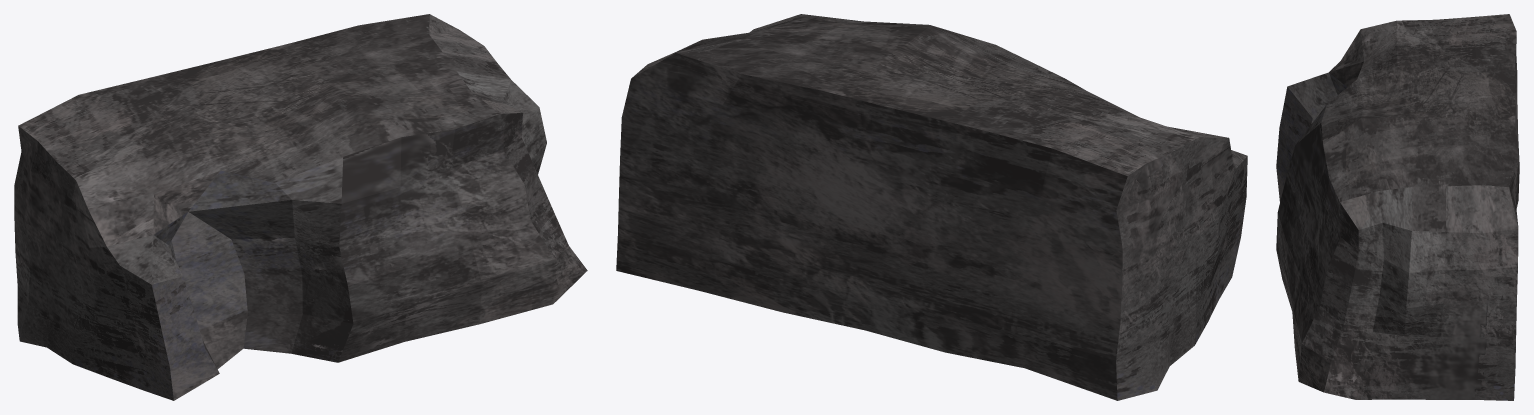
The model's file is lower poly rocks rock wall.fbx.
3 views of the same model, side by side, from view 1: azimuth 30°, elevation 25°; view 2: azimuth 150°, elevation 25°; view 3: azimuth 270°, elevation 25° (orthographic). The views are drawn at different scales.
Parts seen in each view (by area): view 1: rock wall; view 2: rock wall; view 3: rock wall.
Boxes of the visible parts, x1=… form: rock wall: x1=14, y1=14, x2=587, y2=400; rock wall: x1=616, y1=14, x2=1247, y2=400; rock wall: x1=1276, y1=14, x2=1519, y2=400.
Size of the model in its own units: 855 by 363 by 406.
